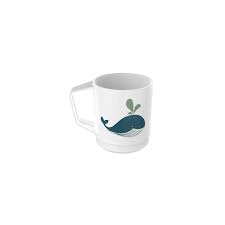mug: (65, 73, 159, 157)
